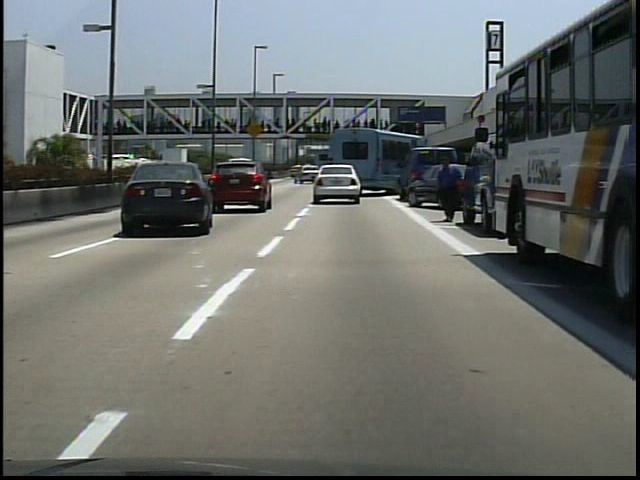person: (433, 159, 464, 228)
